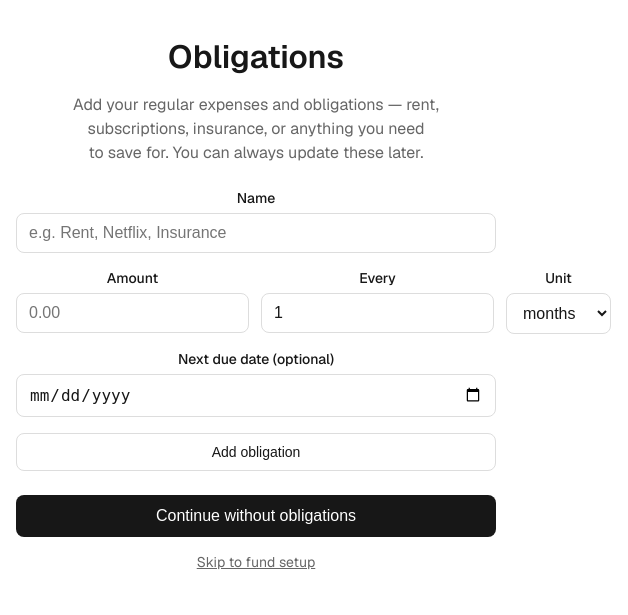
Scenario: OnboardingManualObligationsPage › shows an error when amount is invalid
The image size is (628, 615).
In the field labelled "Name": (256, 232) [16, 212, 496, 252], type "Rent"
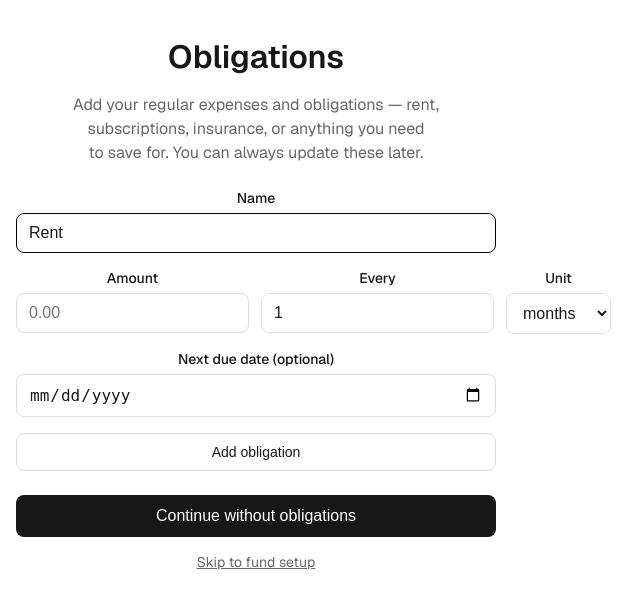
Click the button "Add obligation": (256, 452) [16, 432, 496, 470]
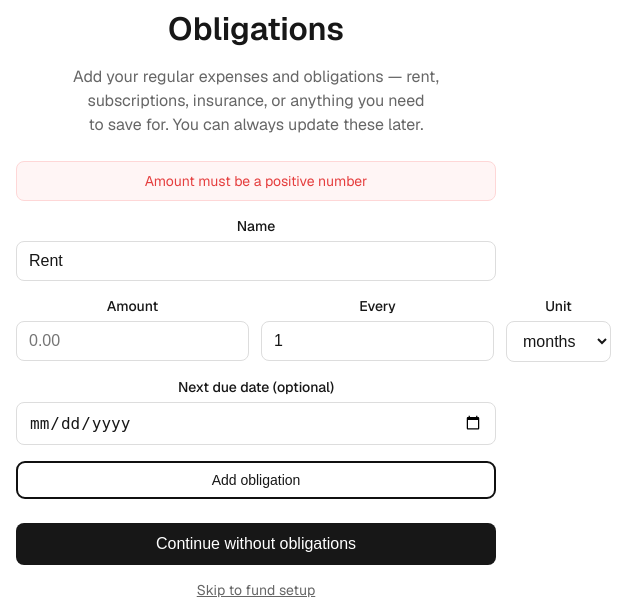
Now the message reads "Amount must be a positive number", box [145, 172, 367, 190]
